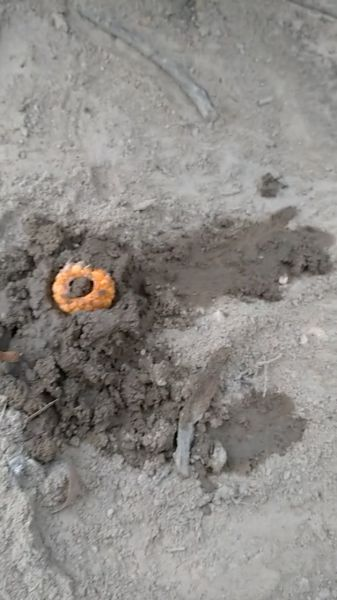eggs: (48, 255, 118, 325)
